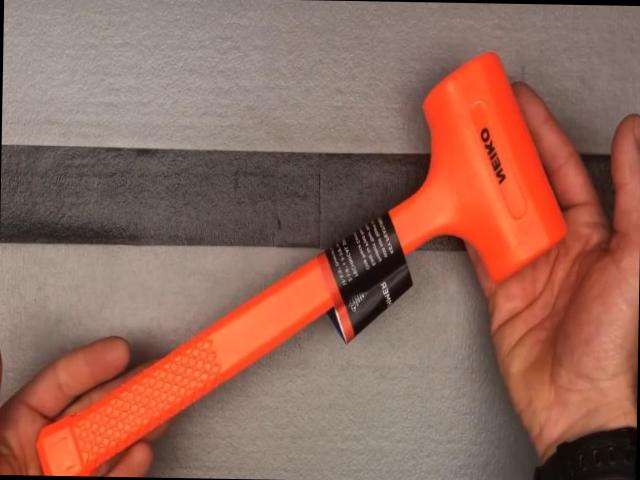hammer: (34, 42, 571, 480)
